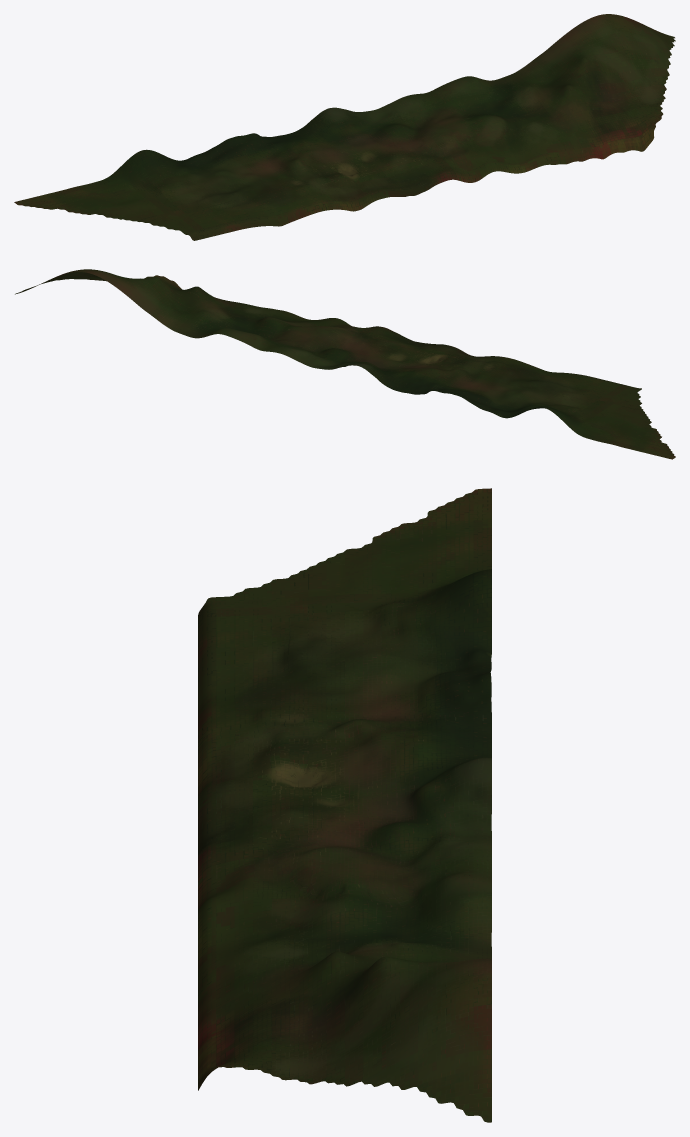
Rendered from Backbround.fbx.
3 views of the same model, one above another, from view 1: azimuth 30°, elevation 25°; view 2: azimuth 150°, elevation 25°; view 3: azimuth 270°, elevation 25° (orthographic). The views are drawn at different scales.
Parts seen in each view (by area): view 1: Backbround; view 2: Backbround; view 3: Backbround.
Part boxes in pixels (<box>): Backbround: <box>14,14,675,240</box>; Backbround: <box>15,269,675,459</box>; Backbround: <box>198,488,491,1122</box>.
Size of the model in its own units: 78315 by 8539 by 15138.
